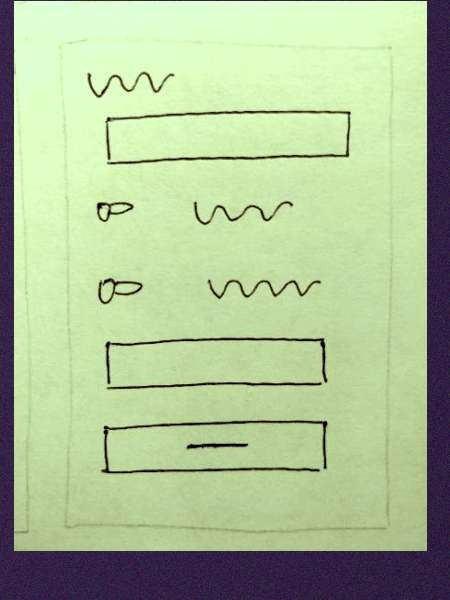button: (90, 413, 334, 487)
switch: (84, 267, 151, 312), (89, 185, 139, 229)
text: (194, 266, 323, 314), (183, 192, 299, 230), (82, 63, 178, 98)
text_input: (98, 106, 360, 171), (98, 330, 335, 397)
